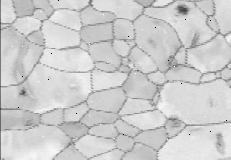good_void: (211, 129, 227, 157), (170, 2, 192, 21), (164, 49, 180, 73), (144, 35, 161, 51), (186, 32, 200, 51), (151, 83, 165, 102), (166, 112, 180, 129), (23, 116, 37, 129), (205, 95, 215, 109), (16, 88, 30, 97)
